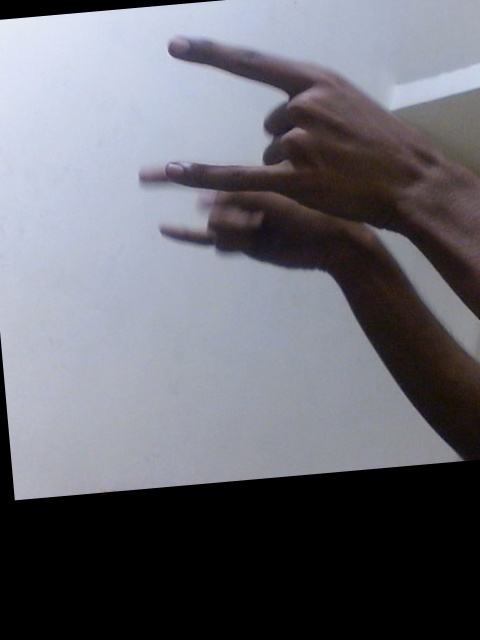hand: (162, 29, 443, 229), (135, 160, 361, 275)
